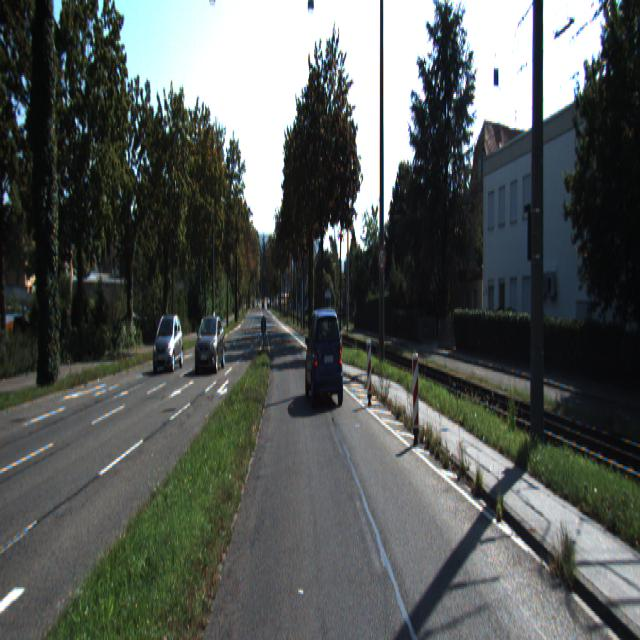Car: (304, 306, 344, 412), (193, 314, 224, 377), (152, 314, 183, 374)
